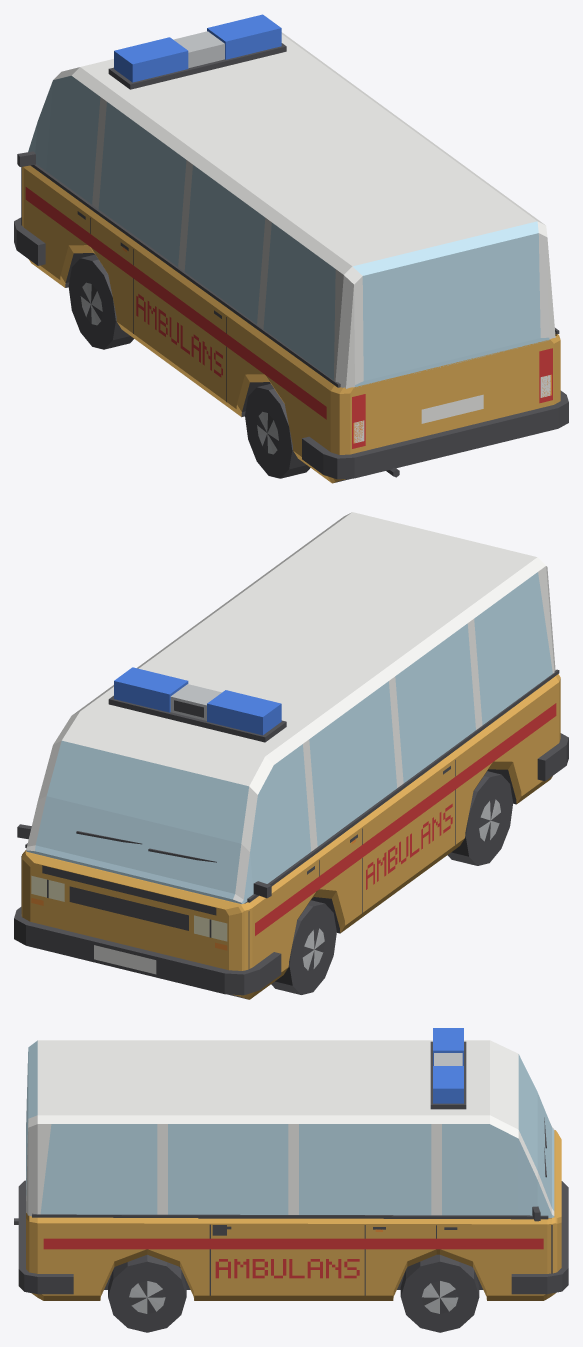
The model's file is ambulance.glb.
The picture shows the model from 3 angles, top to bottom: view 1: azimuth 30°, elevation 25°; view 2: azimuth 150°, elevation 25°; view 3: azimuth 270°, elevation 25°; orthographic projection. The views are drawn at different scales.
Parts seen in each view (by area): view 1: body, door_FL, wheel_FL, wheel_RL, beacon_L, beacon_R; view 2: body, door_FL, wheel_RL, wheel_FL, beacon_L, beacon_R; view 3: body, door_FR, wheel_FR, wheel_RR, beacon_R, beacon_L.
Boxes of the visible parts, x1=… form: body: x1=14, y1=31, x2=568, y2=483; door_FL: x1=21, y1=75, x2=103, y2=287; wheel_FL: x1=68, y1=254, x2=133, y2=349; wheel_RL: x1=245, y1=384, x2=310, y2=478; beacon_L: x1=114, y1=37, x2=188, y2=82; beacon_R: x1=207, y1=14, x2=281, y2=59; body: x1=14, y1=512, x2=568, y2=998; door_FL: x1=242, y1=742, x2=319, y2=999; wheel_RL: x1=447, y1=771, x2=513, y2=865; wheel_FL: x1=271, y1=900, x2=336, y2=994; beacon_L: x1=207, y1=690, x2=281, y2=735; beacon_R: x1=114, y1=667, x2=188, y2=712; body: x1=14, y1=1040, x2=568, y2=1300; door_FR: x1=436, y1=1124, x2=551, y2=1300; wheel_FR: x1=400, y1=1254, x2=479, y2=1332; wheel_RR: x1=108, y1=1254, x2=186, y2=1332; beacon_R: x1=433, y1=1066, x2=463, y2=1103; beacon_L: x1=433, y1=1028, x2=463, y2=1065.
Bounding box in the file's own units: 2.03 × 2.13 × 4.66.
